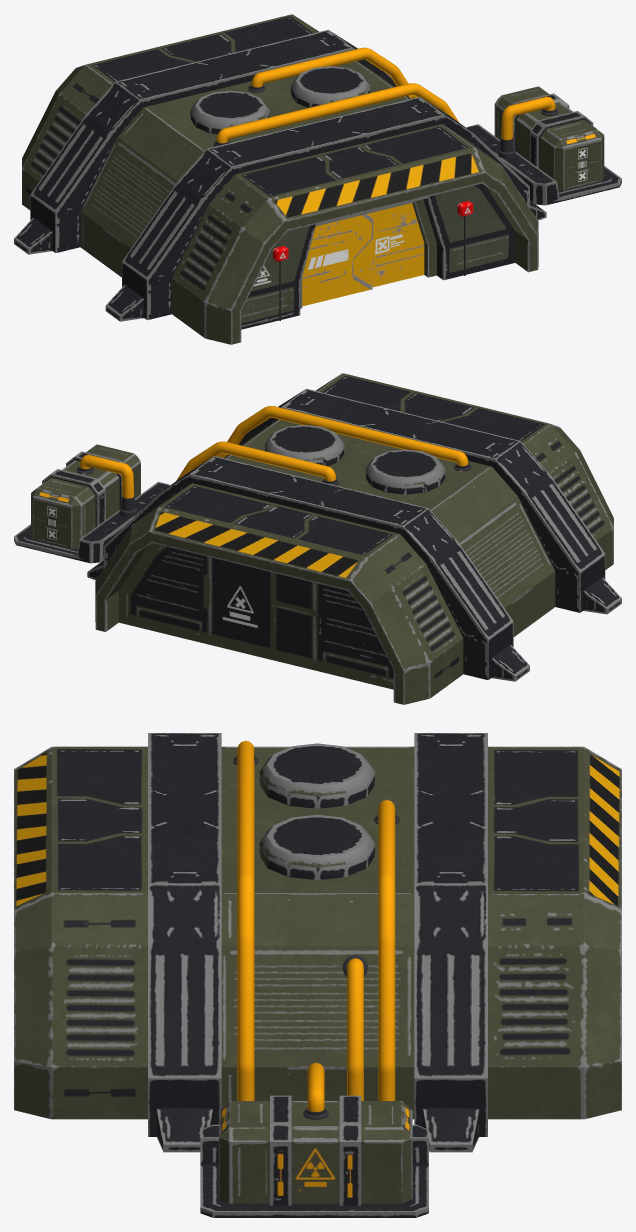
Rendered from rts_military_building_1.glb.
The picture shows the model from 3 angles, top to bottom: view 1: azimuth 30°, elevation 25°; view 2: azimuth 150°, elevation 25°; view 3: azimuth 270°, elevation 25°; orthographic projection. The views are drawn at different scales.
Parts seen in each view (by area): view 1: build, door_panel_left, door_panel_right; view 2: build; view 3: build.
Boxes of the visible parts, bbox=[...] form: build: bbox=[14, 14, 621, 344]; door_panel_left: bbox=[302, 215, 373, 306]; door_panel_right: bbox=[353, 203, 424, 287]; build: bbox=[14, 373, 621, 704]; build: bbox=[14, 733, 621, 1217].
Size of the model in its own units: 2 by 0.5141 by 1.4.
3 materials, 3 textured.
